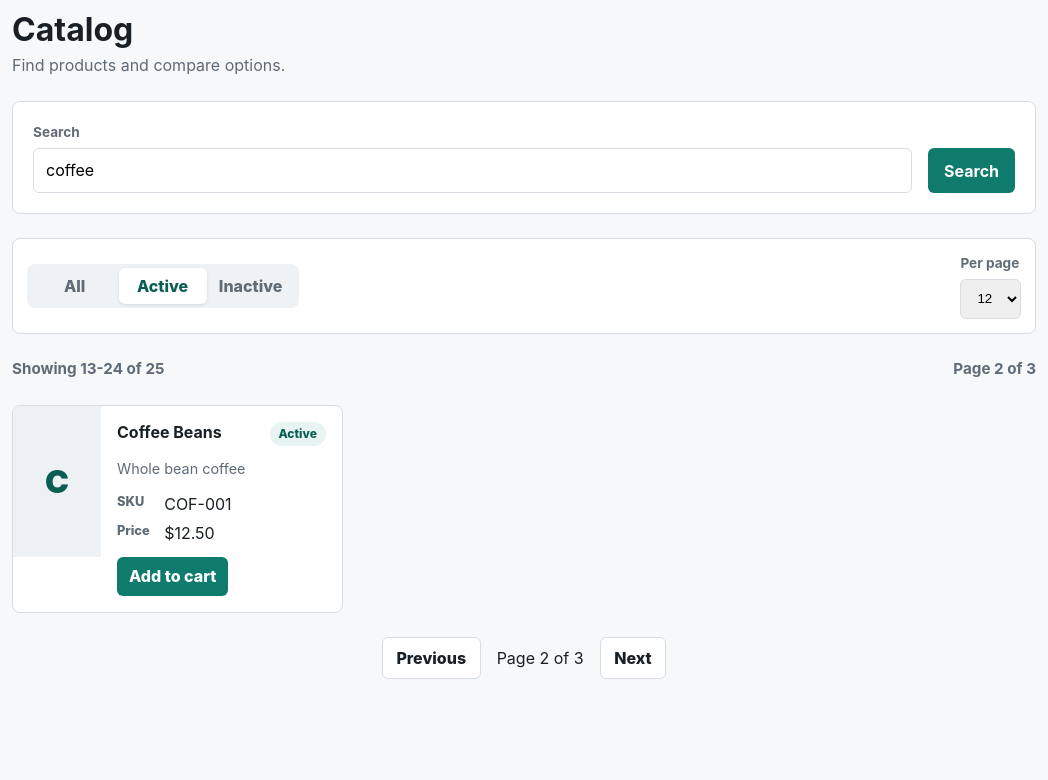
Scenario: CatalogPageComponent › adds catalog products to the real local cart from the button click
The image size is (1048, 780).
Click the button with class "add-button" at [173, 576], box [117,557,228,596]
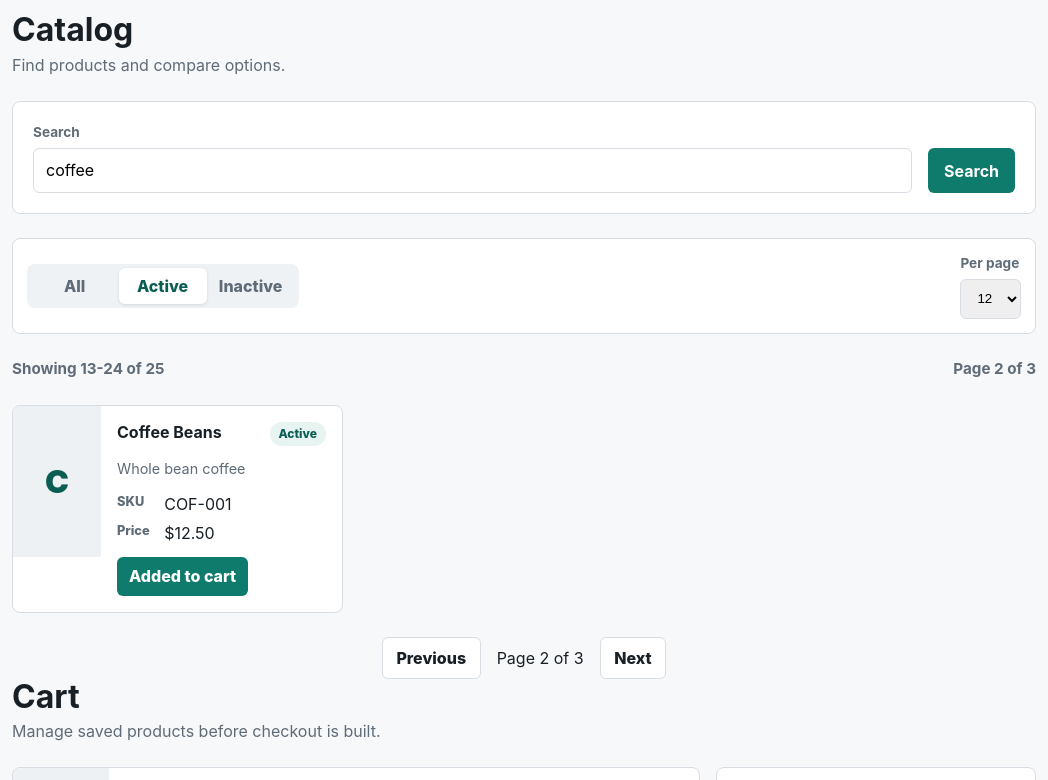
Expected: the text "Coffee Beans" is shown, [117,422,222,442]
Expected: the button with class "add-button" shows "Added", [117,557,248,596]
